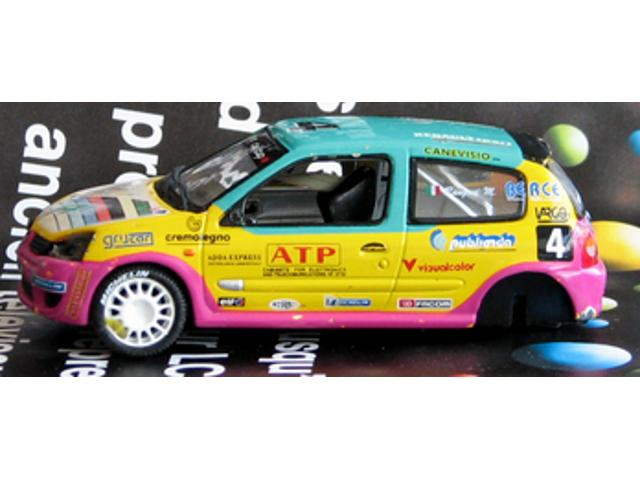toy-car: (16, 115, 608, 360)
